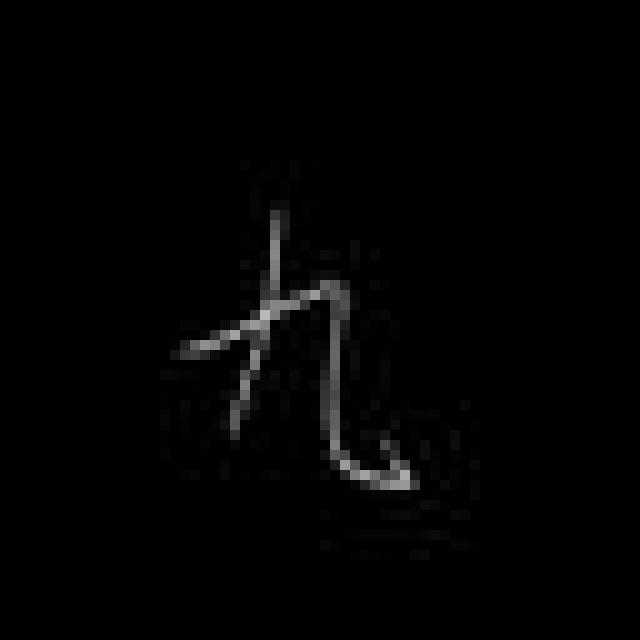9 -nine-: (170, 204, 418, 502)
